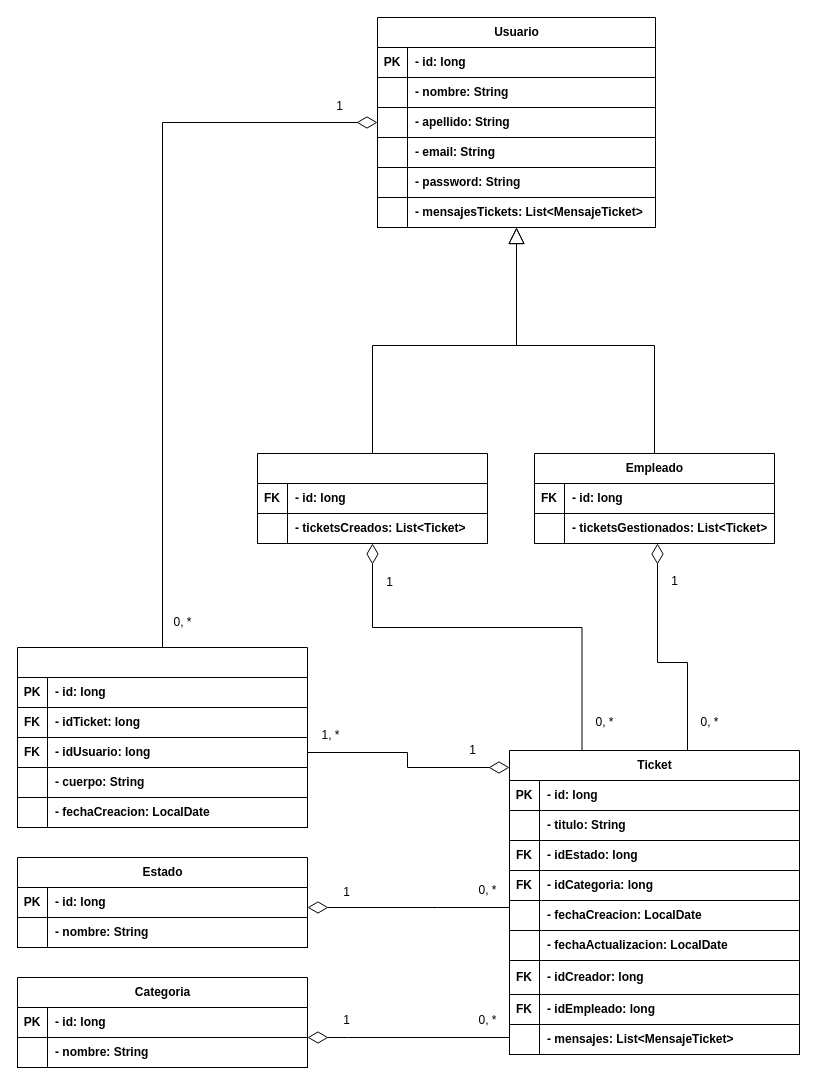
Image size: 817x1085. Some labels were removed from this diagram. The shapes that lost their labels are listed below. From the top down, each one's box as (x1, y1, x2, y2) in pixels, then its label:
(256, 452, 488, 544): Cliente
(16, 646, 308, 828): MensajeTicket
